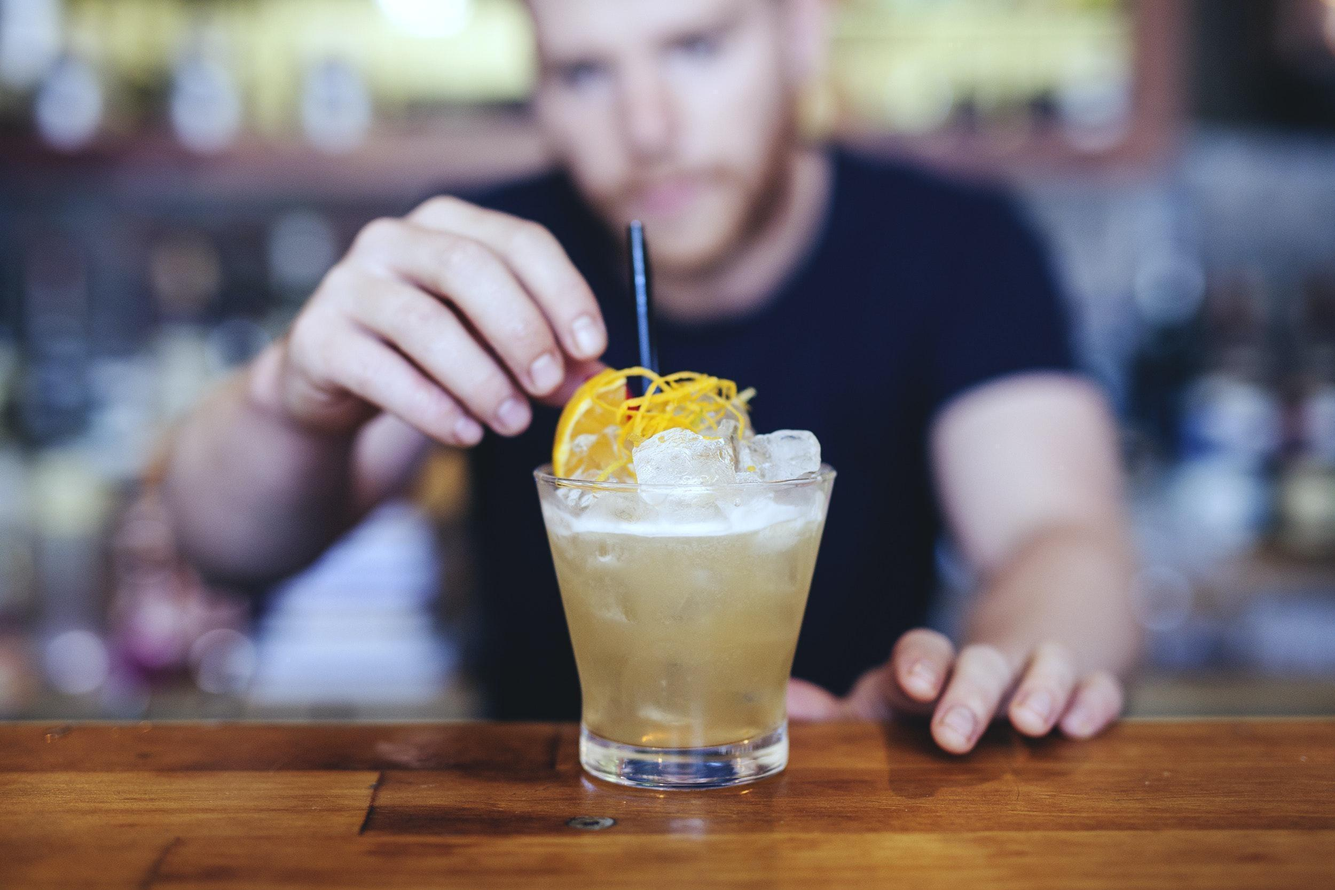glass-normal: (530, 434, 836, 794)
